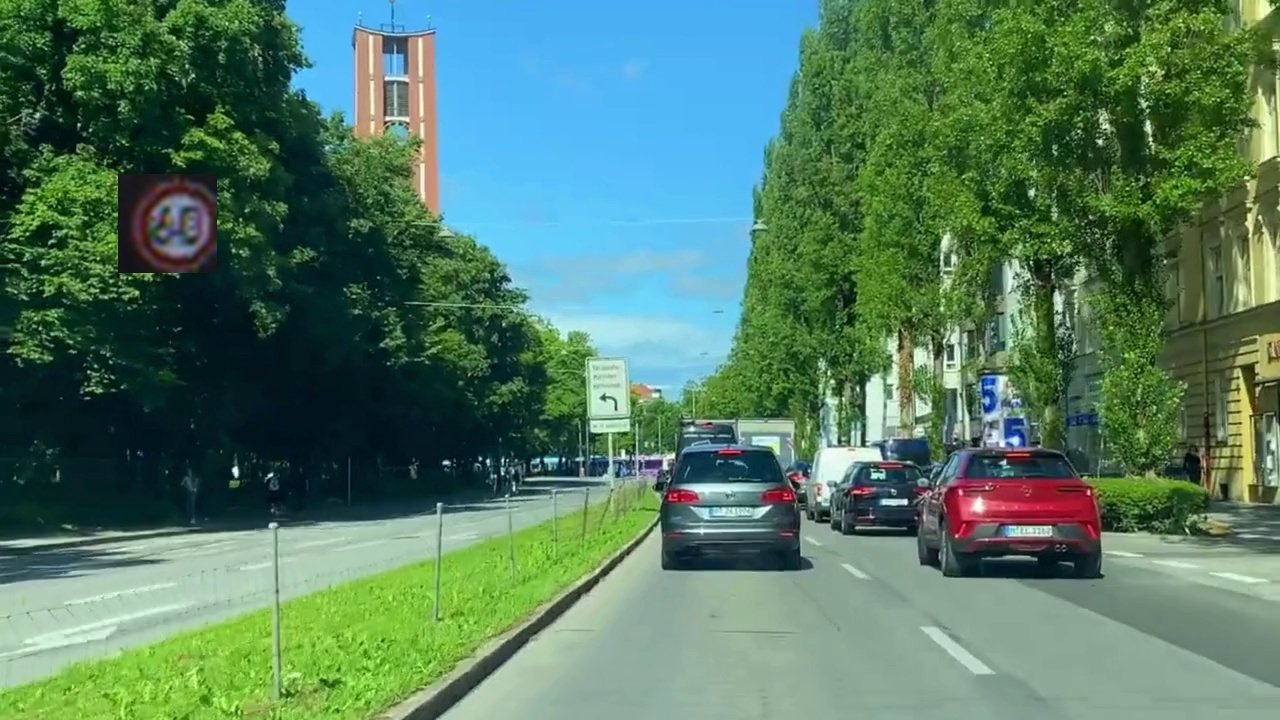Speed 60: (118, 174, 217, 273)
